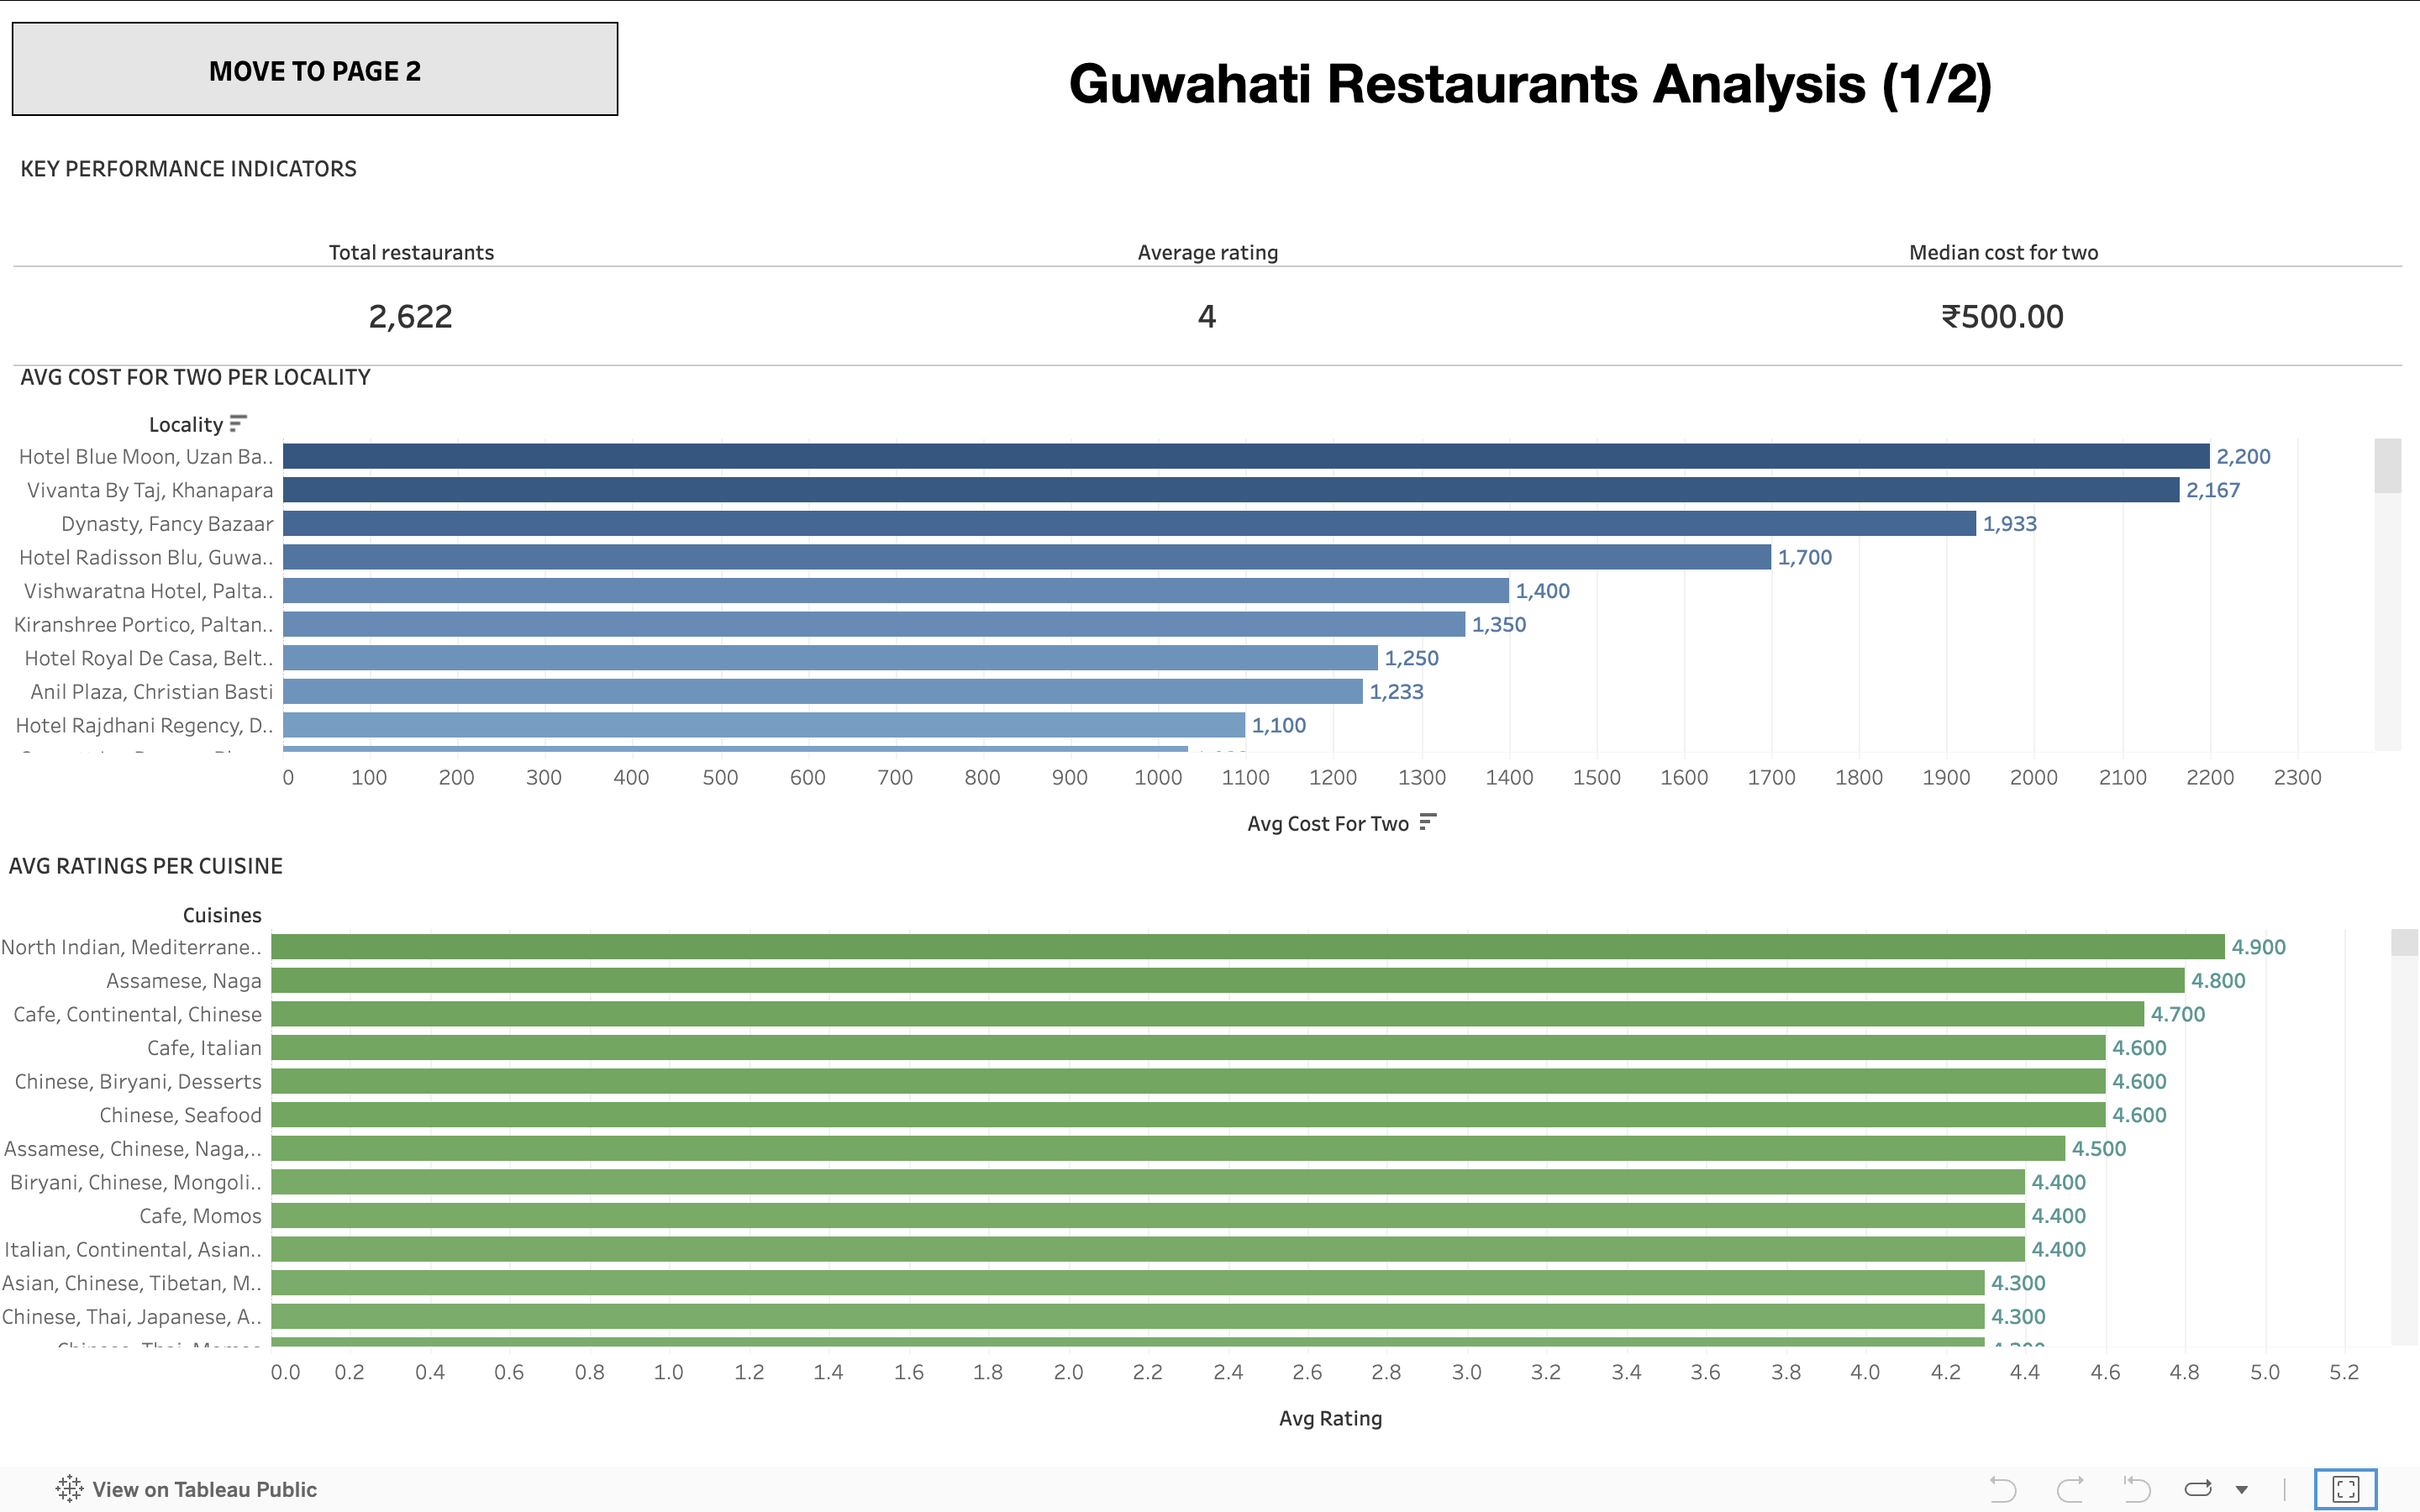

This screenshot's page, from the dashboard's own definition file:
{"tool":"tableau","page":{"name":"Dashboard 1","canvas":[1000,1000],"units":"permille","ordinal":0},"visuals":[{"type":"text","box":[265.8,7.8,733.4,96.4]},{"type":"text","box":[8.1,23.4,172.6,39.1]},{"type":"dashboard-object","box":[5.7,69,129.4,31.2]},{"type":"worksheet","title":"Sheet 1","mark":"Automatic","box":[5.7,114.6,987.8,123.7]},{"type":"worksheet","title":"Sheet 2","mark":"Automatic","rows":["locality"],"cols":["avg_cost_for_two"],"box":[5.7,238.1,987.8,339.7]},{"type":"worksheet","title":"Sheet 3","mark":"Automatic","rows":["cuisines"],"cols":["avg_rating"],"box":[0.8,571.4,1000,411.1]}]}

Visuals, with their boxes on the dashboard's canvas, which has no fixed pixel size, in thousandths of its width and height (x1, y1, x2, y2). These are canvas units, not pixel positions in the 2420x1512 screenshot, which may show the page scaled, cropped or inside an application window:
text: [left=266, top=8, right=999, bottom=104]
text: [left=8, top=23, right=181, bottom=62]
dashboard-object: [left=6, top=69, right=135, bottom=100]
"Sheet 1" worksheet: [left=6, top=115, right=994, bottom=238]
"Sheet 2" worksheet: [left=6, top=238, right=994, bottom=578]
"Sheet 3" worksheet: [left=1, top=571, right=1001, bottom=982]
